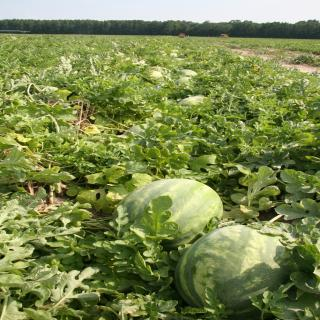Watermelon: (178, 224, 300, 317), (112, 178, 222, 250)
